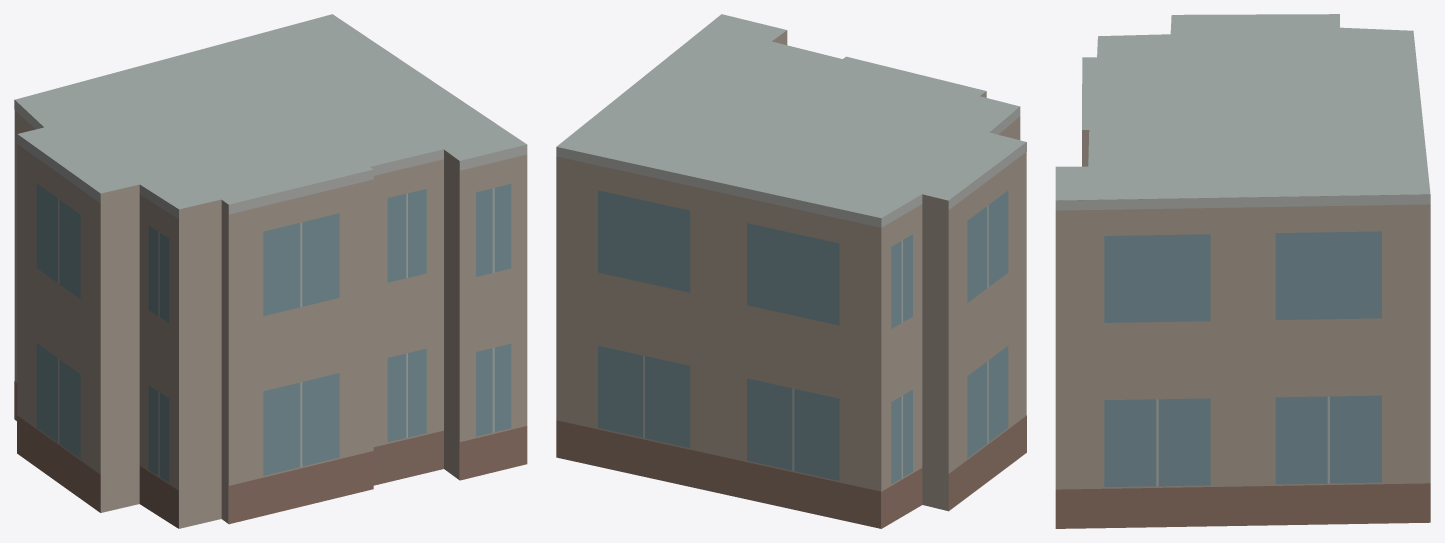
File: survey-upis-33004925.glb
The picture shows the model from 3 angles, left to right: view 1: azimuth 30°, elevation 25°; view 2: azimuth 150°, elevation 25°; view 3: azimuth 270°, elevation 25°; orthographic projection. The views are drawn at different scales.
Parts seen in each view (by area): view 1: survey-upis-33004925.tmp; view 2: survey-upis-33004925.tmp; view 3: survey-upis-33004925.tmp.
Part boxes in pixels (bbox=[...]): survey-upis-33004925.tmp: bbox=[14, 14, 527, 528]; survey-upis-33004925.tmp: bbox=[556, 14, 1026, 528]; survey-upis-33004925.tmp: bbox=[1055, 14, 1430, 528].
Size of the model in its own units: 9.63 by 7.9 by 8.19.
